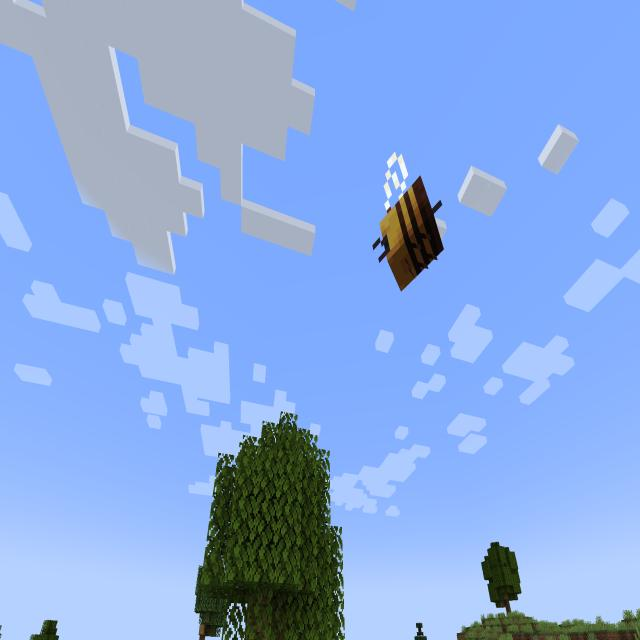bee: (363, 145, 451, 296)
